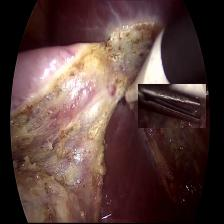Grasper: (138, 85, 206, 128)
Hook: (120, 26, 175, 108)
